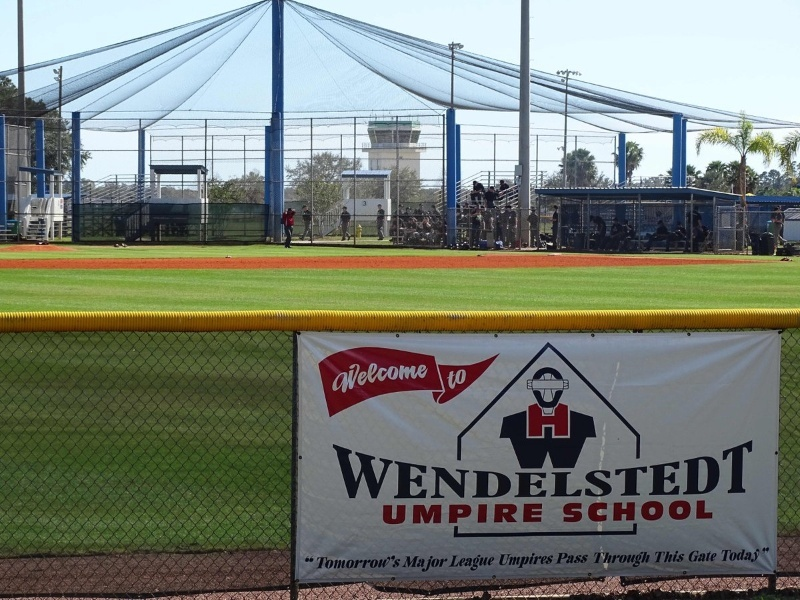text: (337, 440, 352, 503), (353, 440, 368, 503), (369, 440, 384, 503), (385, 440, 400, 503), (401, 440, 416, 503), (417, 440, 432, 503), (433, 440, 448, 503), (449, 440, 464, 503), (465, 440, 480, 503), (481, 440, 496, 503), (497, 440, 512, 503), (513, 440, 528, 503), (529, 440, 544, 503), (545, 440, 560, 503), (561, 440, 576, 503), (577, 440, 592, 503), (593, 440, 608, 503), (609, 440, 624, 503), (625, 440, 640, 503), (641, 440, 656, 503), (657, 440, 672, 503), (673, 440, 688, 503), (689, 440, 704, 503), (705, 440, 720, 503), (721, 440, 736, 503), (737, 440, 752, 503), (337, 353, 352, 396), (353, 353, 368, 396), (369, 353, 384, 396), (385, 353, 400, 396), (401, 353, 416, 396), (417, 353, 431, 396), (325, 353, 336, 396), (330, 440, 336, 503), (449, 367, 464, 392), (577, 500, 592, 524), (593, 500, 608, 524), (609, 500, 624, 524), (625, 500, 640, 524), (641, 500, 656, 524), (657, 500, 672, 524), (673, 500, 688, 524), (689, 500, 704, 524), (385, 503, 400, 526), (401, 503, 416, 526), (417, 503, 432, 526), (433, 503, 448, 526), (449, 503, 464, 526), (465, 503, 480, 526), (481, 503, 496, 526), (497, 503, 512, 526), (513, 503, 528, 526), (529, 503, 544, 526), (563, 500, 576, 524), (433, 556, 449, 573), (385, 555, 401, 571), (417, 556, 432, 573), (465, 555, 480, 572), (513, 552, 528, 569), (529, 552, 544, 569), (593, 552, 608, 569), (609, 552, 624, 569), (625, 552, 640, 569), (753, 440, 757, 503), (705, 500, 715, 524), (321, 555, 336, 571), (337, 555, 352, 571), (353, 555, 368, 571), (369, 555, 384, 571), (737, 548, 752, 564), (481, 555, 495, 572), (722, 548, 736, 564), (451, 555, 464, 572), (500, 552, 512, 569), (657, 551, 672, 564), (673, 551, 688, 564), (689, 550, 704, 563), (405, 556, 416, 573), (561, 553, 576, 565), (545, 552, 555, 569), (641, 552, 651, 569), (705, 550, 718, 563), (577, 553, 590, 565), (753, 548, 761, 564), (465, 367, 470, 392), (305, 554, 316, 565), (445, 367, 448, 392), (381, 503, 384, 526), (761, 547, 768, 556), (317, 555, 320, 571), (363, 201, 368, 207), (558, 553, 560, 565), (769, 547, 771, 556), (655, 551, 656, 564)
